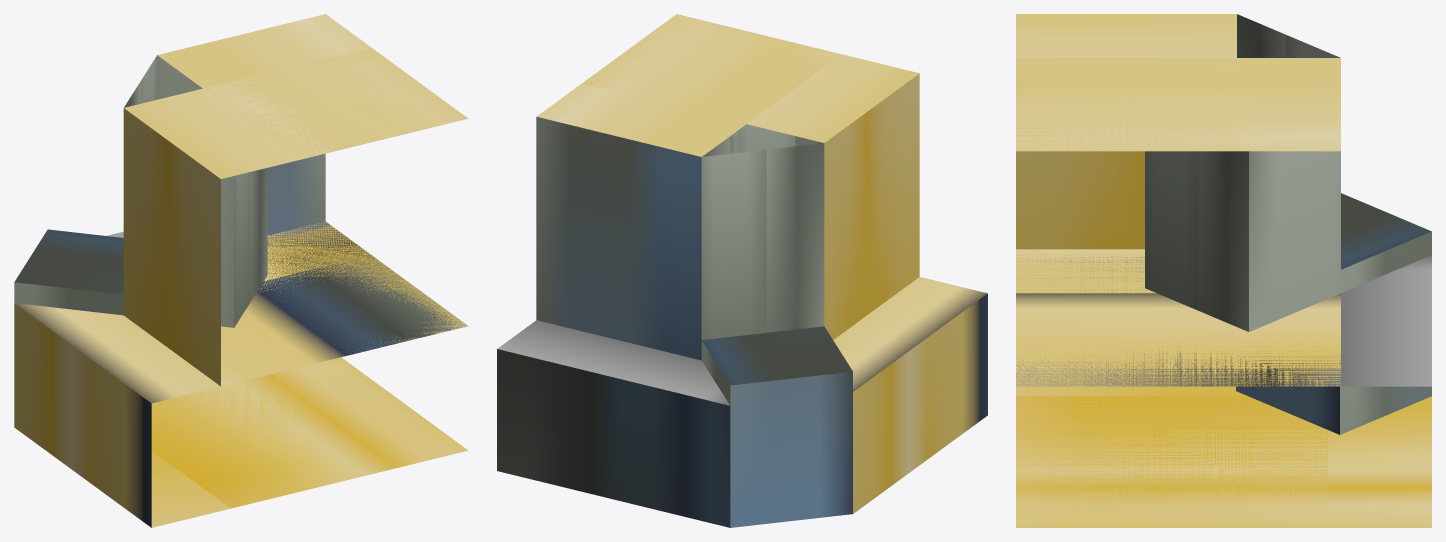
3 views of the same model, side by side, from view 1: azimuth 30°, elevation 25°; view 2: azimuth 150°, elevation 25°; view 3: azimuth 270°, elevation 25° (orthographic). The views are drawn at different scales.
Parts seen in each view (by area): view 1: frame; view 2: frame; view 3: frame.
Boxes of the visible parts, x1,y1,x2,y2 form: frame: [14, 14, 468, 527]; frame: [497, 14, 987, 527]; frame: [1016, 14, 1431, 527].
Size of the model in its own units: 1 by 1 by 1.
